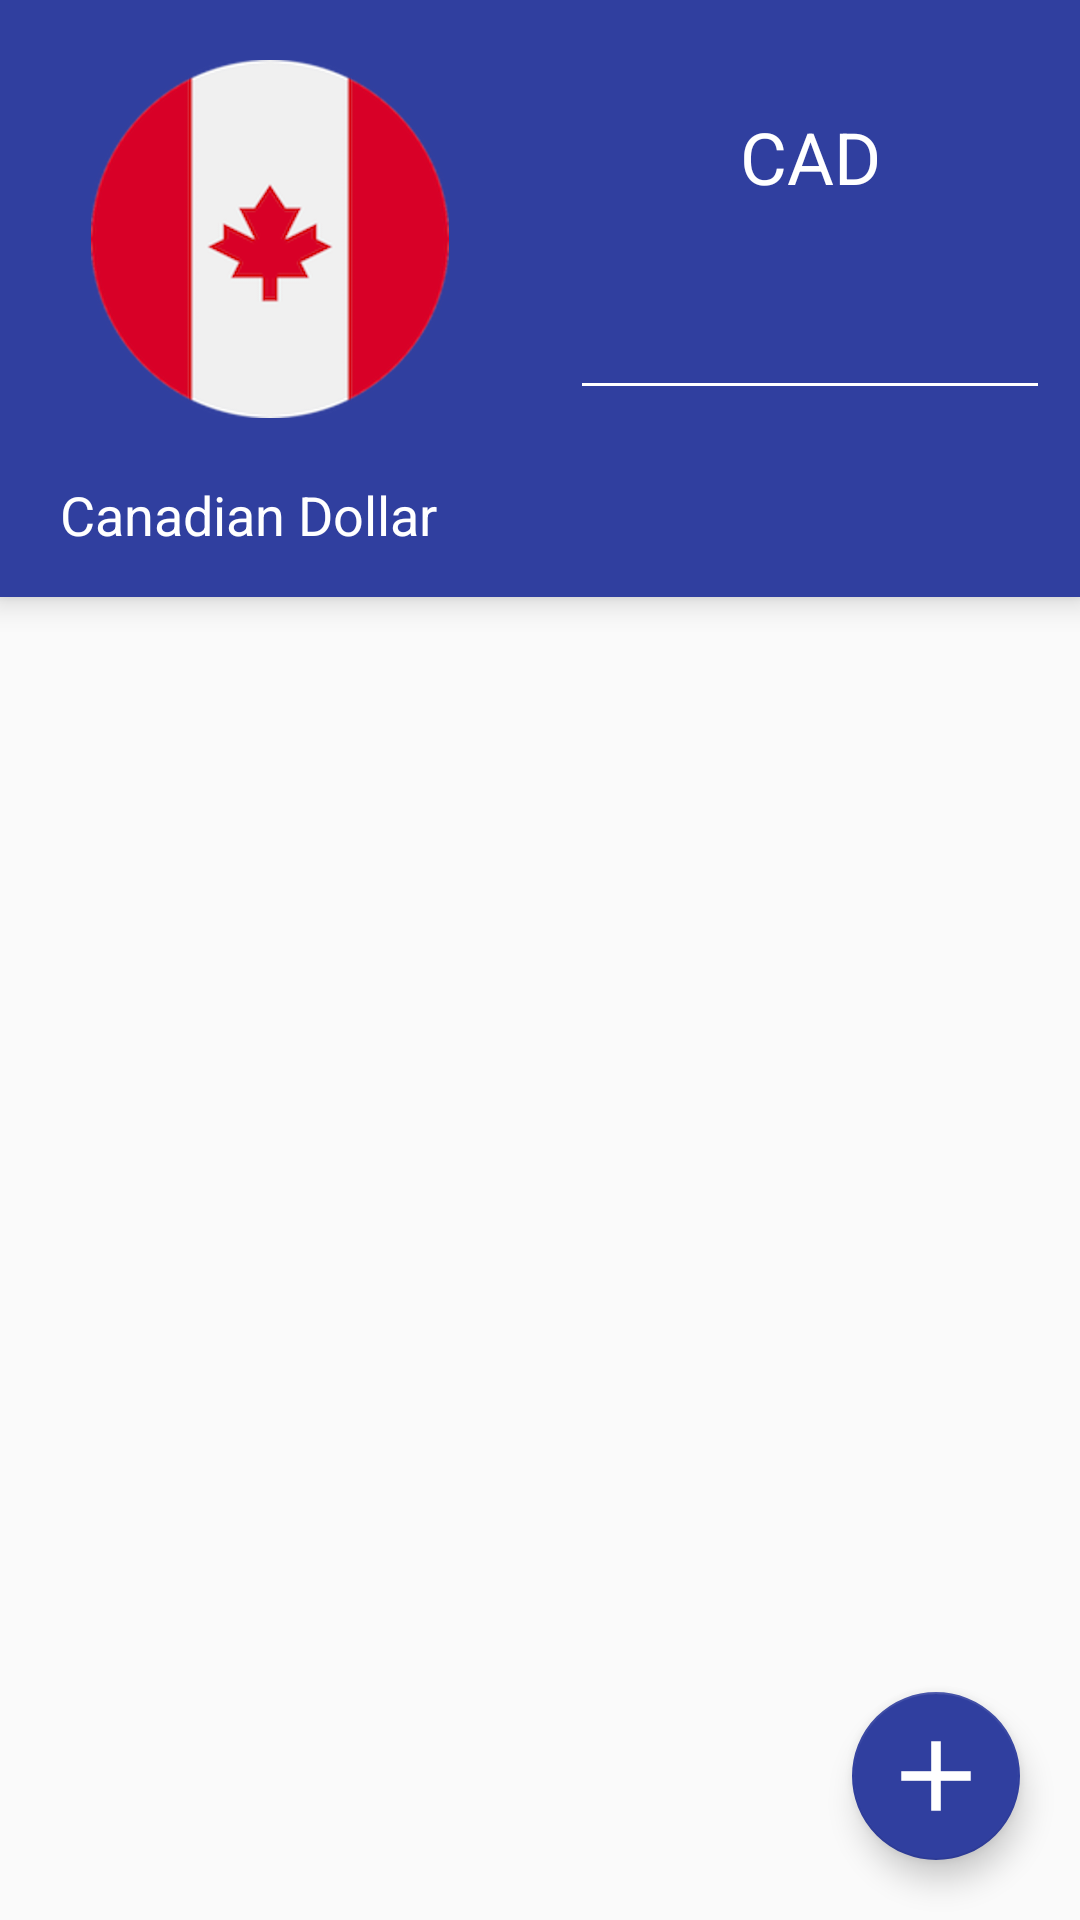

Where icons sit on this 1080x1920 app screen, as (x1, y1, x2, y2):
add: (852, 1692, 1020, 1860)
canada: (91, 60, 449, 418)
